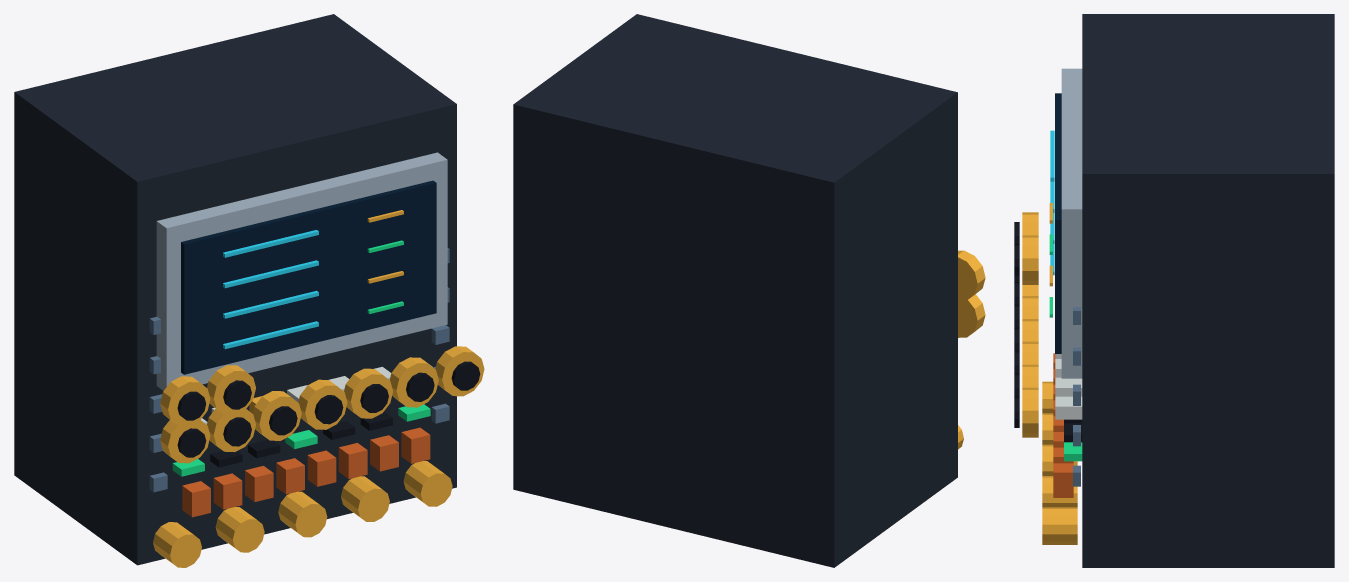
Rendered from 69_L86_Protected5VControlSupply.fbx.
The picture shows the model from 3 angles, left to right: view 1: azimuth 30°, elevation 25°; view 2: azimuth 150°, elevation 25°; view 3: azimuth 270°, elevation 25°; orthographic projection. The views are drawn at different scales.
Visible parts, largest first — view 1: L86_Protected5VControlSupply, L86_Protected5VControlSupply_Part_0022, L86_Protected5VControlSupply_Part_0020, L86_Protected5VControlSupply_Part_0018, L86_Protected5VControlSupply_Part_0014, L86_Protected5VControlSupply_Part_0016, L86_Protected5VControlSupply_Part_0024, L86_Protected5VControlSupply_Part_0026, L86_Protected5VControlSupply_Part_0010, L86_Protected5VControlSupply_Part_0012, L86_Protected5VControlSupply_Part_0013, L86_Protected5VControlSupply_Part_0023 (+7 smaller); view 2: L86_Protected5VControlSupply, L86_Protected5VControlSupply_Part_0024, L86_Protected5VControlSupply_Part_0010; view 3: L86_Protected5VControlSupply, L86_Protected5VControlSupply_Part_0022, L86_Protected5VControlSupply_Part_0026, L86_Protected5VControlSupply_Part_0020, L86_Protected5VControlSupply_Part_0024.
Boxes of the visible parts, x1,y1,x2,y2 form: L86_Protected5VControlSupply: [14, 14, 456, 567]; L86_Protected5VControlSupply_Part_0022: [435, 346, 484, 396]; L86_Protected5VControlSupply_Part_0020: [389, 357, 438, 407]; L86_Protected5VControlSupply_Part_0018: [344, 368, 392, 418]; L86_Protected5VControlSupply_Part_0014: [252, 391, 301, 440]; L86_Protected5VControlSupply_Part_0016: [298, 379, 347, 429]; L86_Protected5VControlSupply_Part_0024: [160, 376, 210, 425]; L86_Protected5VControlSupply_Part_0026: [207, 365, 255, 414]; L86_Protected5VControlSupply_Part_0010: [160, 419, 210, 463]; L86_Protected5VControlSupply_Part_0012: [207, 408, 255, 452]; L86_Protected5VControlSupply_Part_0013: [223, 417, 251, 446]; L86_Protected5VControlSupply_Part_0023: [451, 361, 480, 390]; L86_Protected5VControlSupply: [513, 14, 963, 567]; L86_Protected5VControlSupply_Part_0024: [958, 250, 985, 300]; L86_Protected5VControlSupply_Part_0010: [958, 294, 985, 337]; L86_Protected5VControlSupply: [1042, 14, 1334, 567]; L86_Protected5VControlSupply_Part_0022: [1022, 387, 1038, 437]; L86_Protected5VControlSupply_Part_0026: [1022, 235, 1038, 284]; L86_Protected5VControlSupply_Part_0020: [1022, 364, 1038, 387]; L86_Protected5VControlSupply_Part_0024: [1022, 212, 1038, 235].
Size of the model in its own units: 97.92 by 112 by 82.84.
